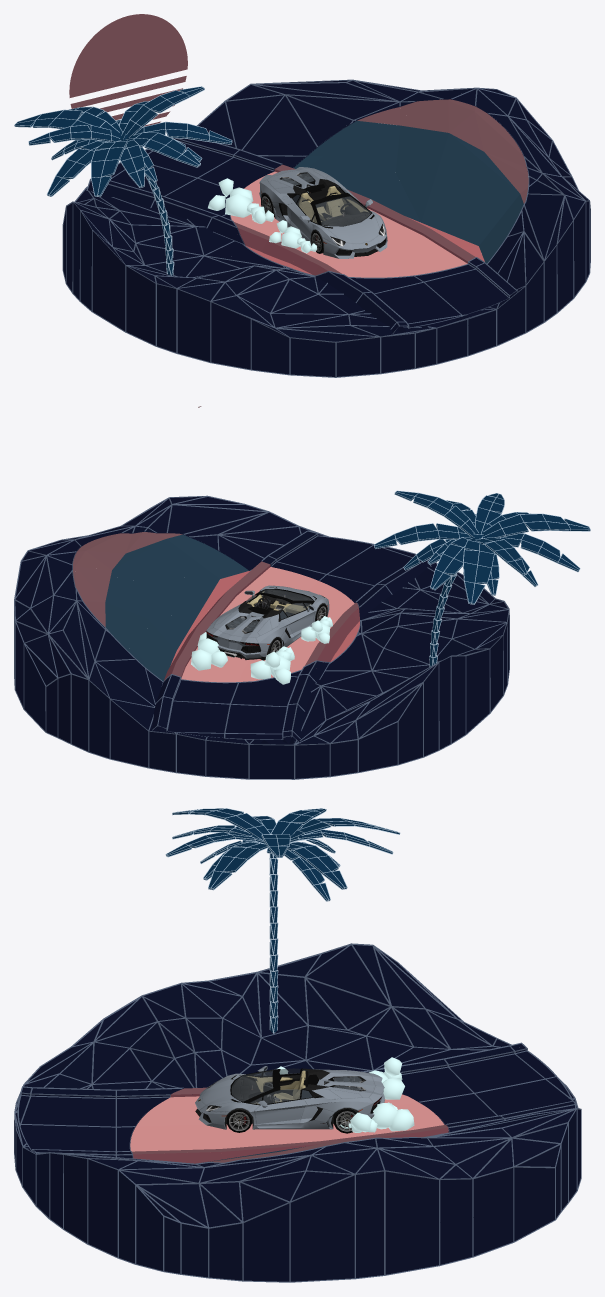
File: lamboScene4.glb
The picture shows the model from 3 angles, top to bottom: view 1: azimuth 30°, elevation 25°; view 2: azimuth 150°, elevation 25°; view 3: azimuth 270°, elevation 25°; orthographic projection. The views are drawn at different scales.
Parts seen in each view (by area): view 1: body_0.001, Sunset1, Island.9875, Island.6949, Island.6886, Island.6958, Icosphere_10, Island.6921, Island.9873, Island.6596, Island.6952, Island.10076 (+63 smaller); view 2: body_0.001, Icosphere_10, Island.9875, Island.6933, Island_8, Island.6949, Island.6606, Island.6701, Island.6947, Island.6942, Island.6959, Island.6930 (+56 smaller); view 3: body_0.001, Island.6957, Island.6965, Island.6941, Island.6963, Island.6932, Island.6960, Island.6936, Island.6966, Icosphere_10, Island.6606, Island.6596 (+56 smaller).
Part boxes in pixels (<box>): body_0.001: <box>259,167,387,258</box>; Sunset1: <box>69,15,187,97</box>; Island.9875: <box>421,133,519,222</box>; Island.6949: <box>92,231,125,330</box>; Island.6886: <box>243,96,317,154</box>; Island.6958: <box>211,302,250,369</box>; Icosphere_10: <box>208,178,317,253</box>; Island.6921: <box>177,289,210,361</box>; Island.9873: <box>421,194,519,245</box>; Island.6596: <box>376,236,467,275</box>; Island.6952: <box>126,266,155,345</box>; Island.10076: <box>395,133,448,221</box>; body_0.001: <box>206,585,329,660</box>; Icosphere_10: <box>191,616,332,684</box>; Island.9875: <box>112,539,199,611</box>; Island.6933: <box>110,700,148,767</box>; Island_8: <box>167,701,229,732</box>; Island.6949: <box>466,649,489,733</box>; Island.6606: <box>225,704,286,733</box>; Island.6701: <box>167,505,265,534</box>; Island.6947: <box>249,745,293,778</box>; Island.6942: <box>206,741,248,778</box>; Island.6959: <box>359,722,397,771</box>; Island.6930: <box>398,684,422,764</box>; body_0.001: <box>195,1066,384,1129</box>; Island.6957: <box>290,1175,354,1281</box>; Island.6965: <box>385,1171,438,1274</box>; Island.6941: <box>243,1203,289,1281</box>; Island.6963: <box>473,1168,513,1255</box>; Island.6932: <box>356,1171,383,1277</box>; Island.6960: <box>440,1179,472,1264</box>; Island.6936: <box>88,1159,117,1256</box>; Island.6966: <box>514,1167,554,1241</box>; Icosphere_10: <box>277,1057,414,1132</box>; Island.6606: <box>450,1054,543,1092</box>; Island.6596: <box>132,1124,219,1151</box>.
Size of what is drawn, in the model's own units: 8.91 by 3.5 by 7.68.
23 materials, 12 textured.
